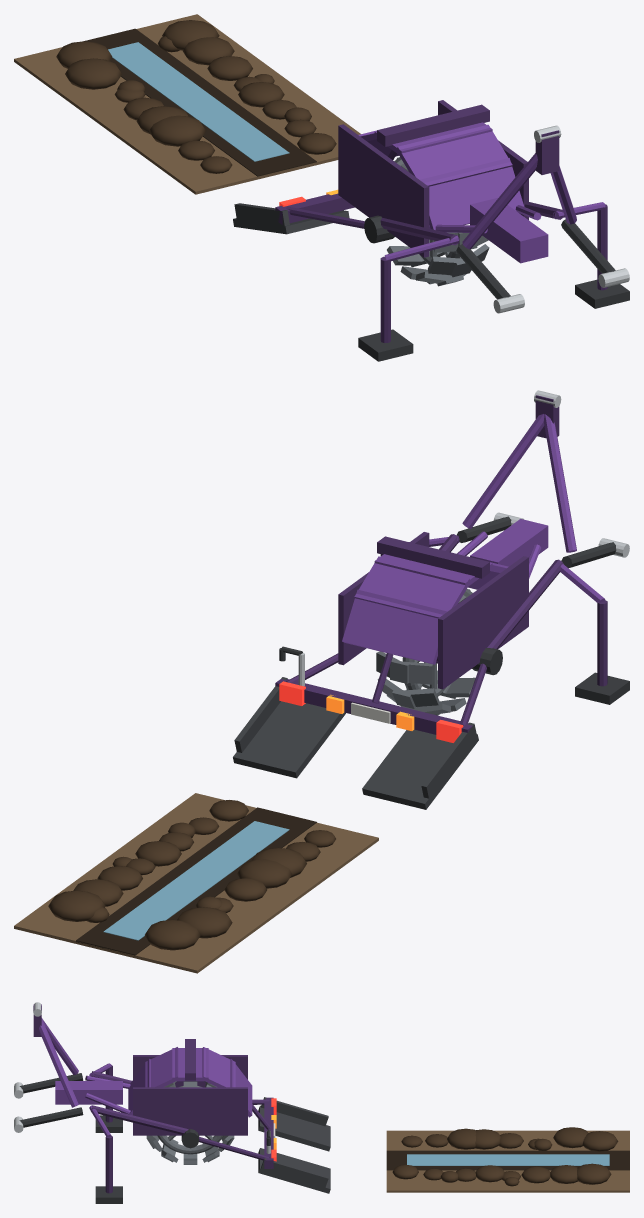
The model's file is groover.glb.
3 views of the same model, one above another, from view 1: azimuth 30°, elevation 25°; view 2: azimuth 150°, elevation 25°; view 3: azimuth 270°, elevation 25° (orthographic). The views are drawn at different scales.
Visible parts, largest first — view 1: GrooverBody, GrooverProps, GrooverWheel; view 2: GrooverBody, GrooverProps, GrooverWheel; view 3: GrooverBody, GrooverProps, GrooverWheel.
Part boxes in pixels (x1,y1,x2,y2): GrooverBody: [233, 100, 629, 361]; GrooverProps: [14, 14, 360, 194]; GrooverWheel: [387, 157, 489, 286]; GrooverBody: [233, 390, 629, 809]; GrooverProps: [14, 793, 378, 973]; GrooverWheel: [376, 589, 475, 715]; GrooverBody: [14, 1002, 330, 1203]; GrooverProps: [386, 1127, 629, 1192]; GrooverWheel: [146, 1081, 234, 1164].
Size of the model in its own units: 1.44 by 1.28 by 4.55.
